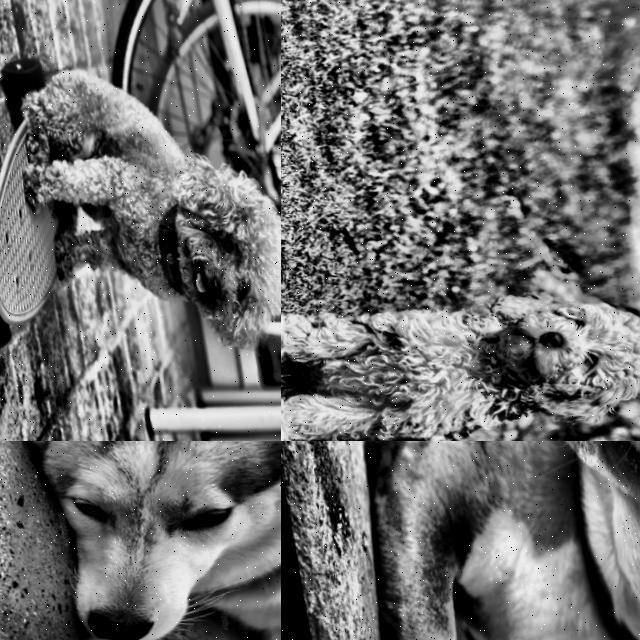beagle: (452, 441, 640, 640)
husky: (0, 441, 281, 640)
poodle: (117, 129, 281, 368), (441, 254, 640, 441)
